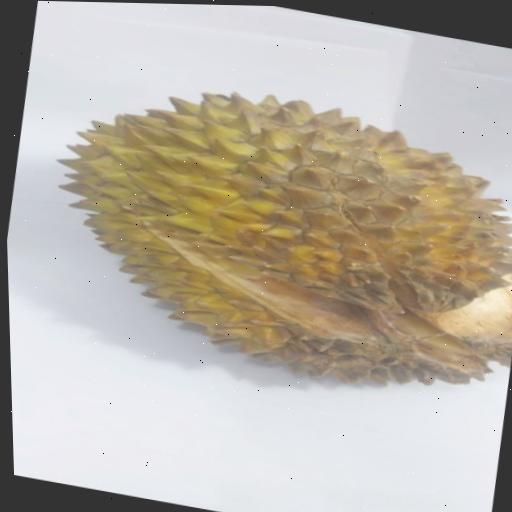rot: (8, 41, 512, 420)
